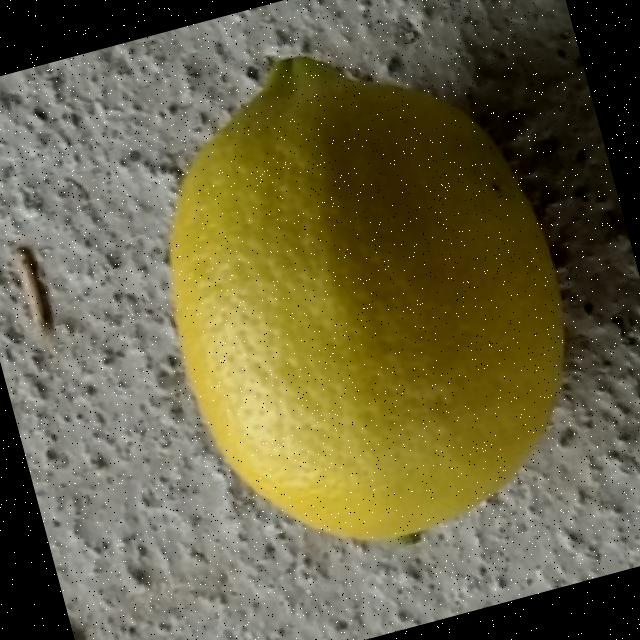Lemon: (116, 11, 614, 590)
